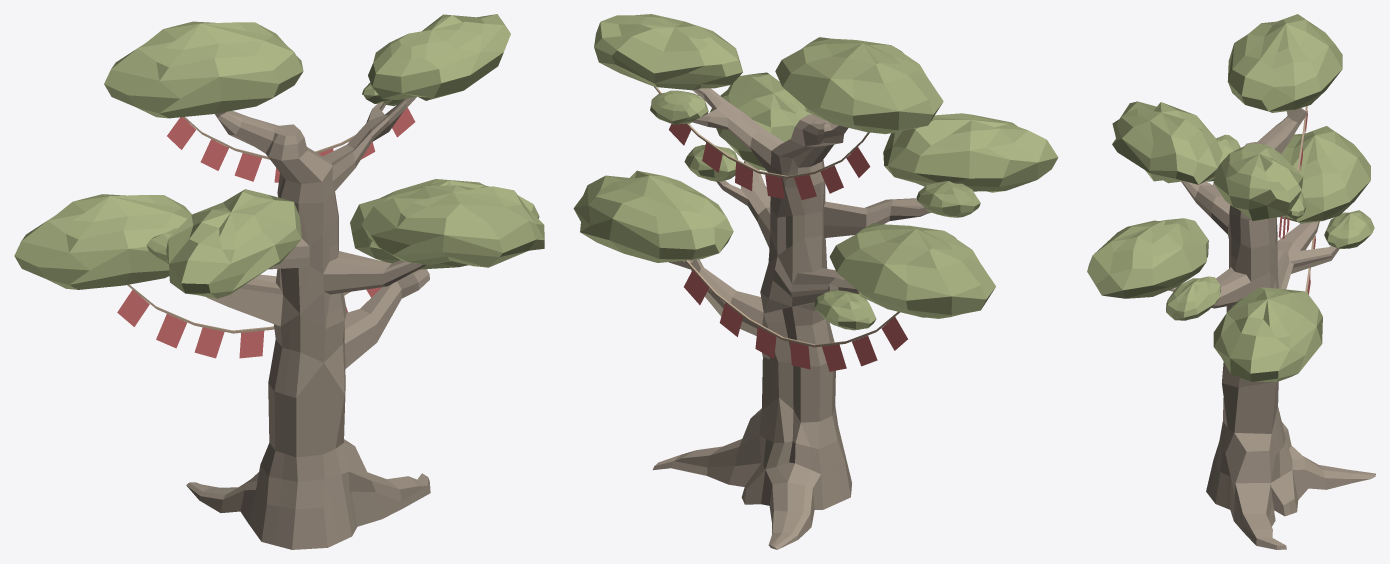
The model's file is ER_Asset_Tree07.fbx.
3 views of the same model, side by side, from view 1: azimuth 30°, elevation 25°; view 2: azimuth 150°, elevation 25°; view 3: azimuth 270°, elevation 25° (orthographic). The views are drawn at different scales.
Visible parts, largest first — view 1: polySurface6734; view 2: polySurface6734; view 3: polySurface6734.
Part boxes in pixels (left/top/right/bottom): polySurface6734: left=14, top=14, right=544, bottom=549; polySurface6734: left=573, top=14, right=1058, bottom=549; polySurface6734: left=1087, top=14, right=1375, bottom=549.
Bounding box in the file's own units: 9.23 × 9.52 × 5.68.
